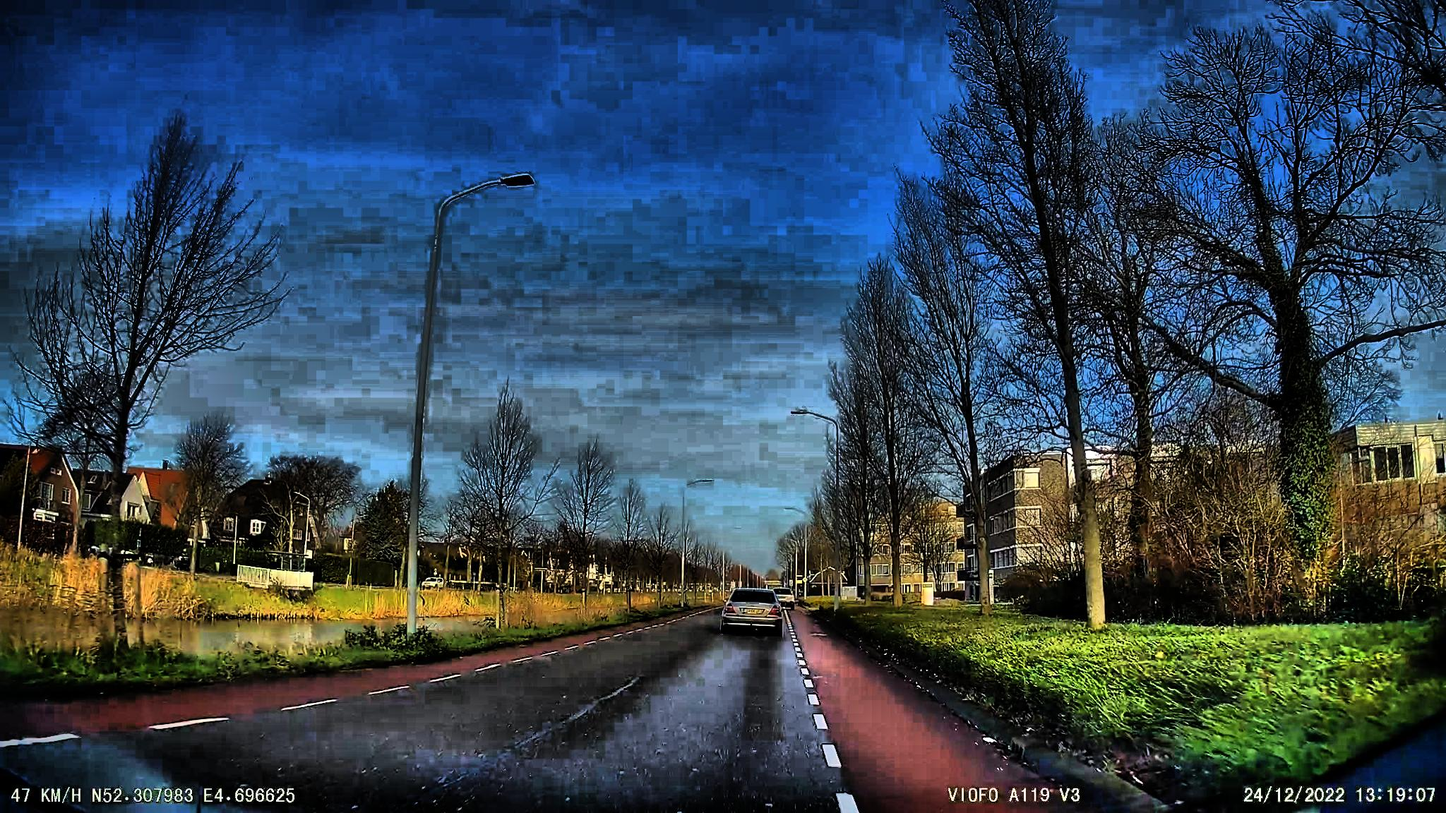Roads: (0, 614, 1124, 813)
